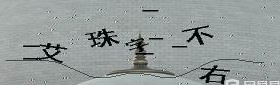chinese: (34, 43, 69, 67), (86, 25, 117, 51), (197, 60, 229, 85), (180, 25, 217, 46), (125, 38, 154, 58)
